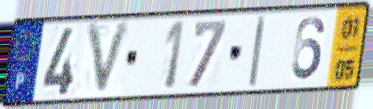1: (162, 19, 187, 94)
4: (41, 24, 79, 99)
6: (290, 15, 327, 83)
7: (189, 17, 230, 91)
I: (246, 13, 268, 90)
V: (84, 18, 135, 100)
